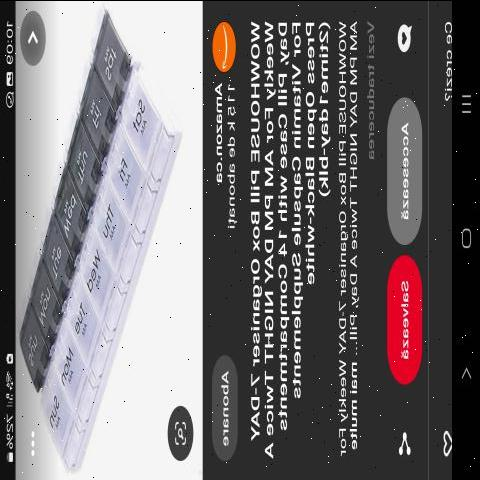PillBox: (17, 14, 191, 480)
